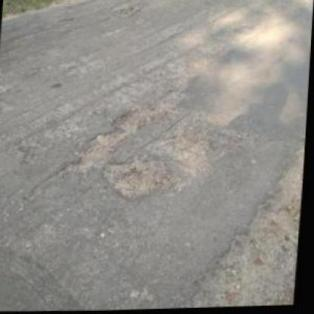Hueco: (188, 145, 307, 308), (61, 107, 150, 178), (102, 152, 170, 203), (112, 2, 146, 18)
